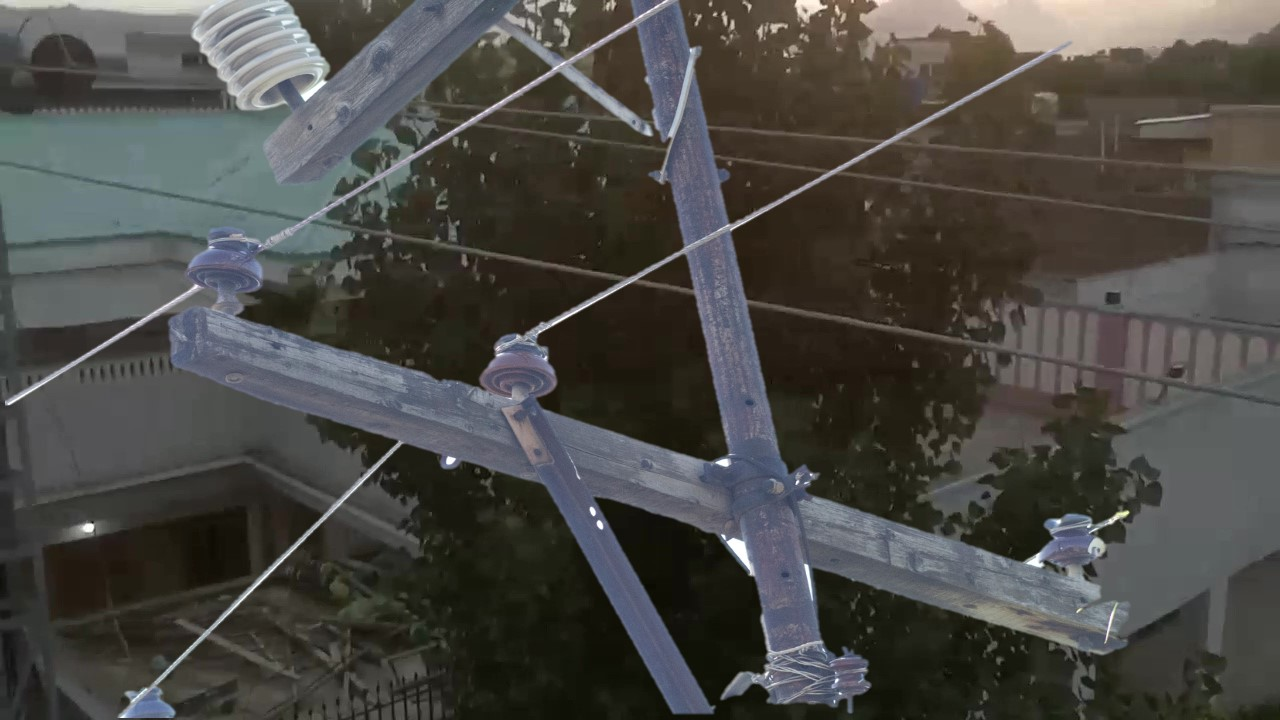defect_pin: (1027, 499, 1121, 576)
insulator_pin: (471, 323, 566, 406), (181, 227, 278, 308)
